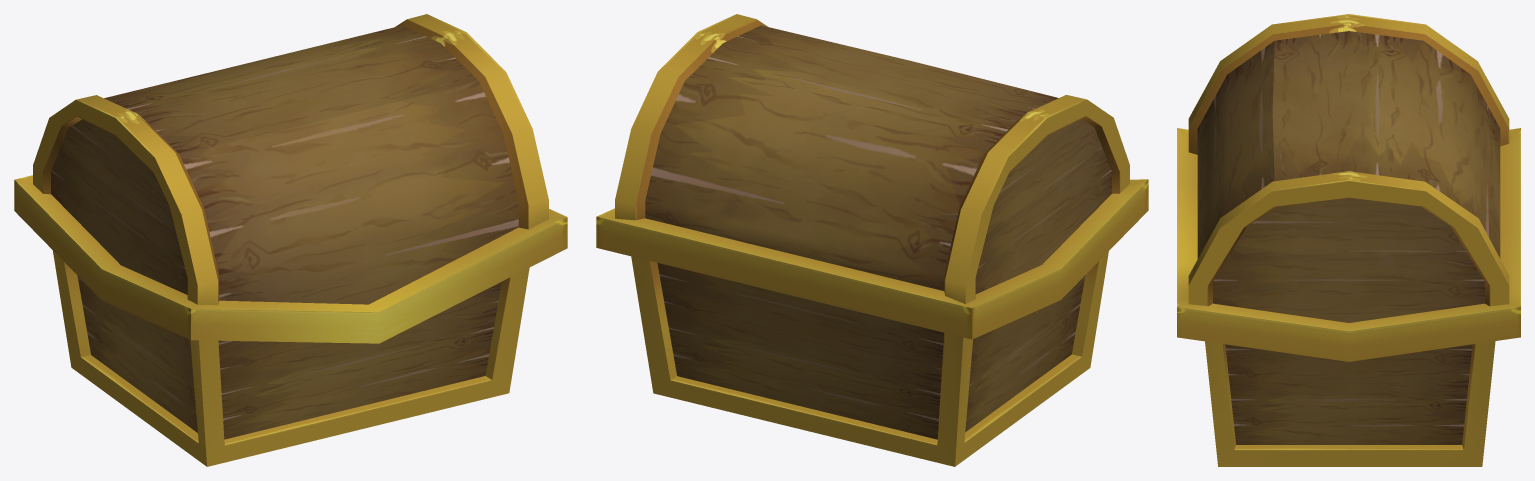
Rendered from Chest.fbx.
3 views of the same model, side by side, from view 1: azimuth 30°, elevation 25°; view 2: azimuth 150°, elevation 25°; view 3: azimuth 270°, elevation 25° (orthographic). The views are drawn at different scales.
Visible parts, largest first — view 1: polySurface136, polySurface137; view 2: polySurface136, polySurface137; view 3: polySurface136, polySurface137.
Part boxes in pixels (x1,y1,x2,y2): polySurface136: [14, 14, 567, 343]; polySurface137: [53, 251, 529, 466]; polySurface136: [596, 14, 1148, 339]; polySurface137: [631, 251, 1108, 466]; polySurface136: [1177, 14, 1520, 361]; polySurface137: [1205, 341, 1495, 466].
Bounding box in the file's own units: 7.33 × 5.67 × 5.94.
